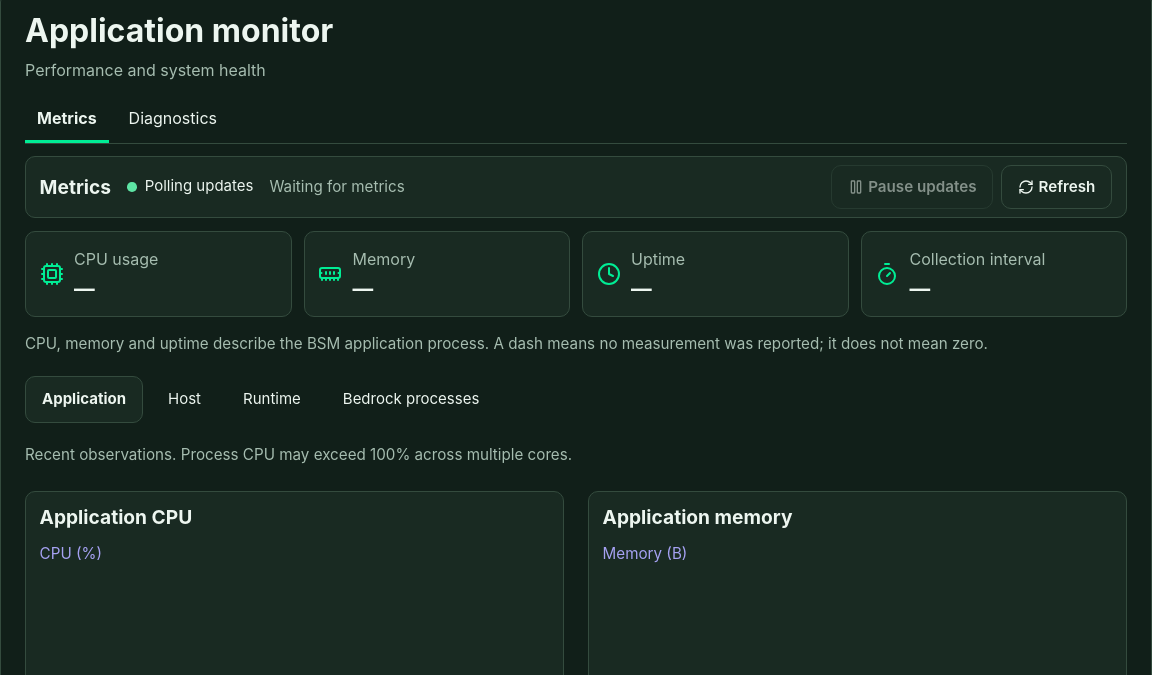
Test case: retains observations on fetch failures, pages history and inspects partial traces
The image size is (1152, 675).
Click the tab "Diagnostics" at (173, 120), box [117,97,229,143]
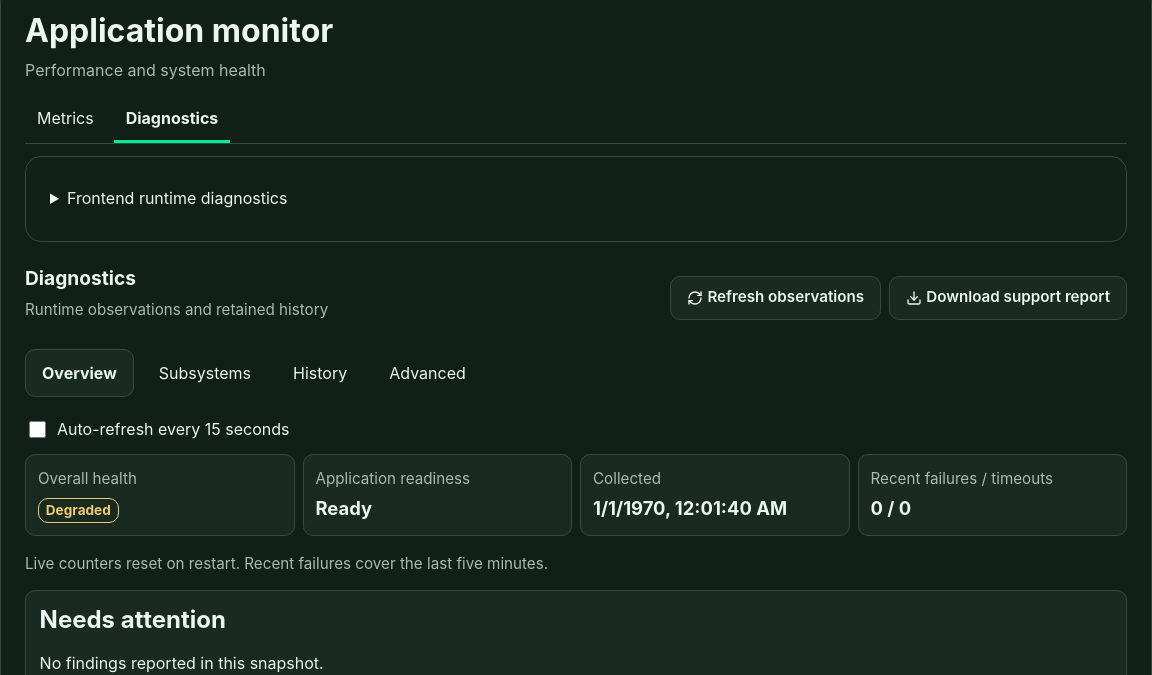
Result: the text "Ready" is shown at [316,497,372,519]
Click the button "History" at (320, 373), box [276,349,364,397]
(page scrolled)
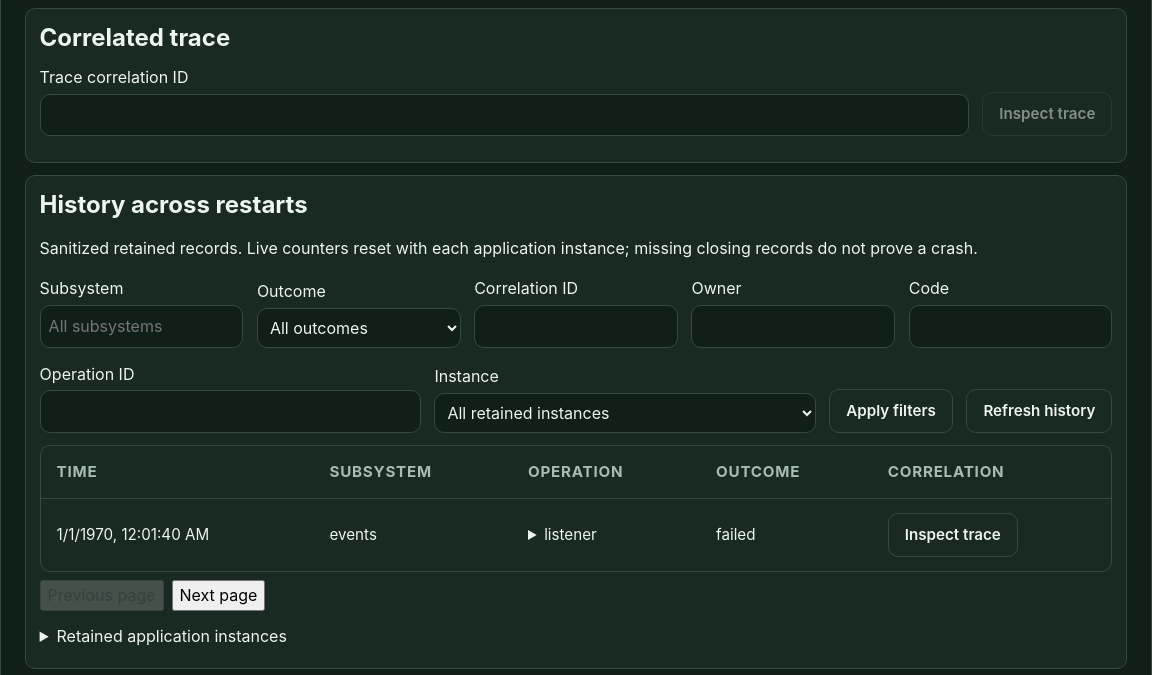
Result: the row "1/1/1970, 12:01:40 AM events listener failed Inspect trace" is shown at [41,498,1111,571]
Click the button "Inspect trace" in the row of "events" at (953, 535), box [888,513,1018,557]
(page scrolled)
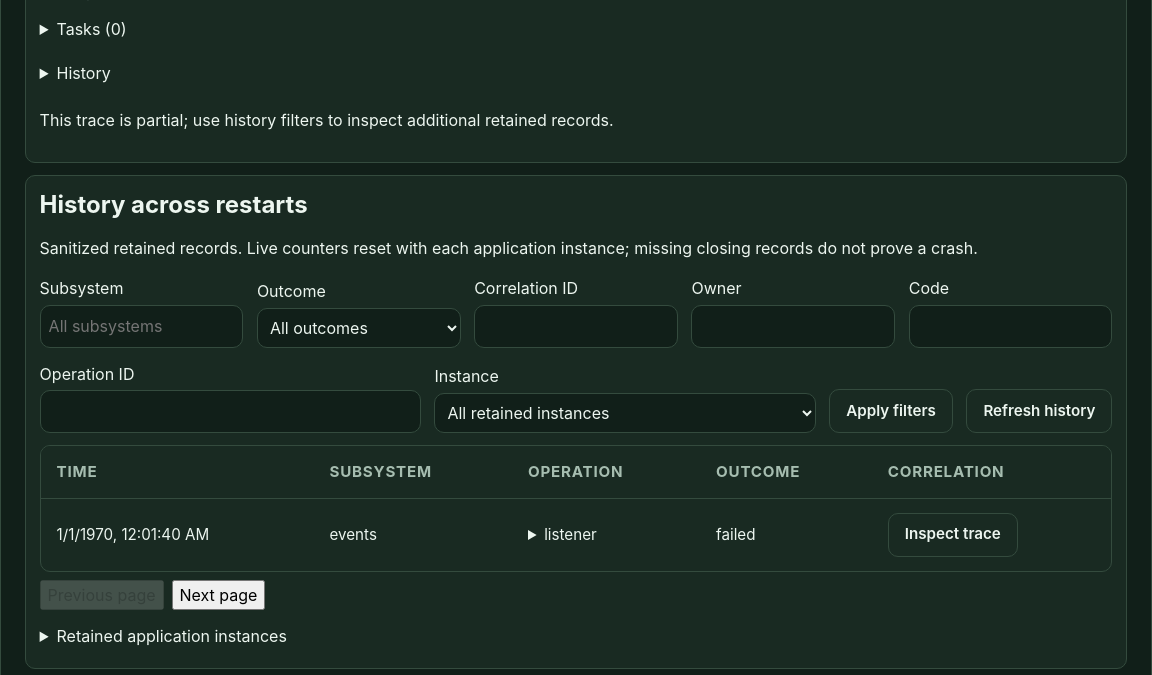
Click the button "Next page" at (218, 595), box [172,580,265,610]
(page scrolled)
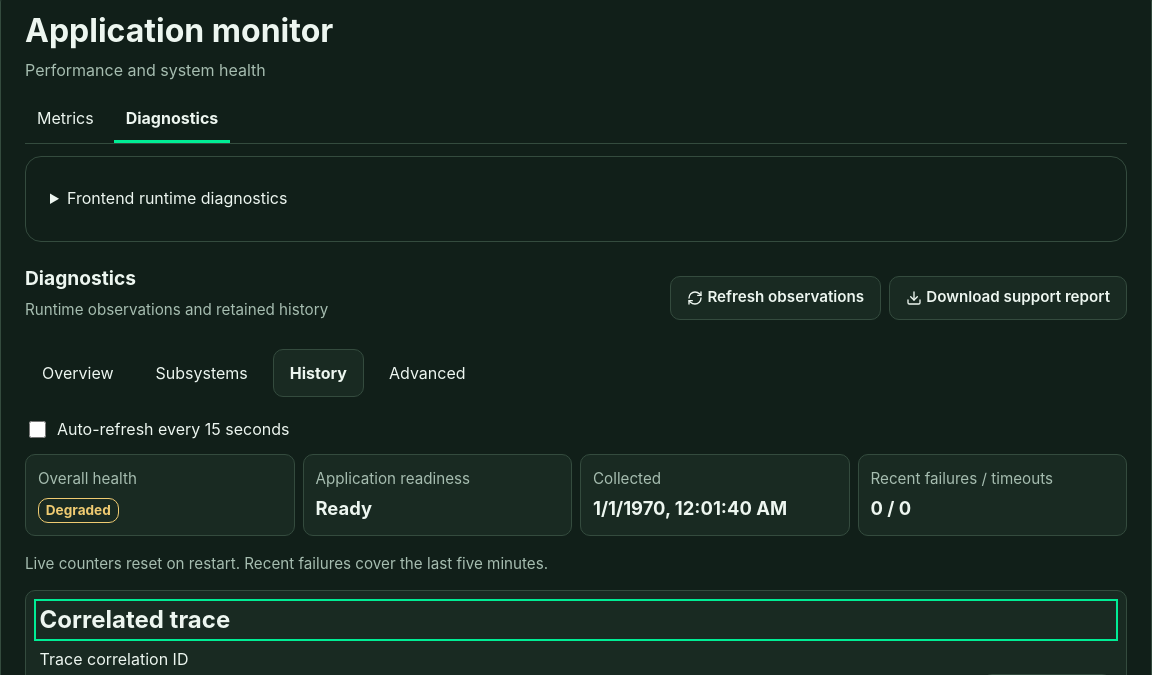
Click the button "Refresh observations" at (776, 298), box [670,276,881,320]
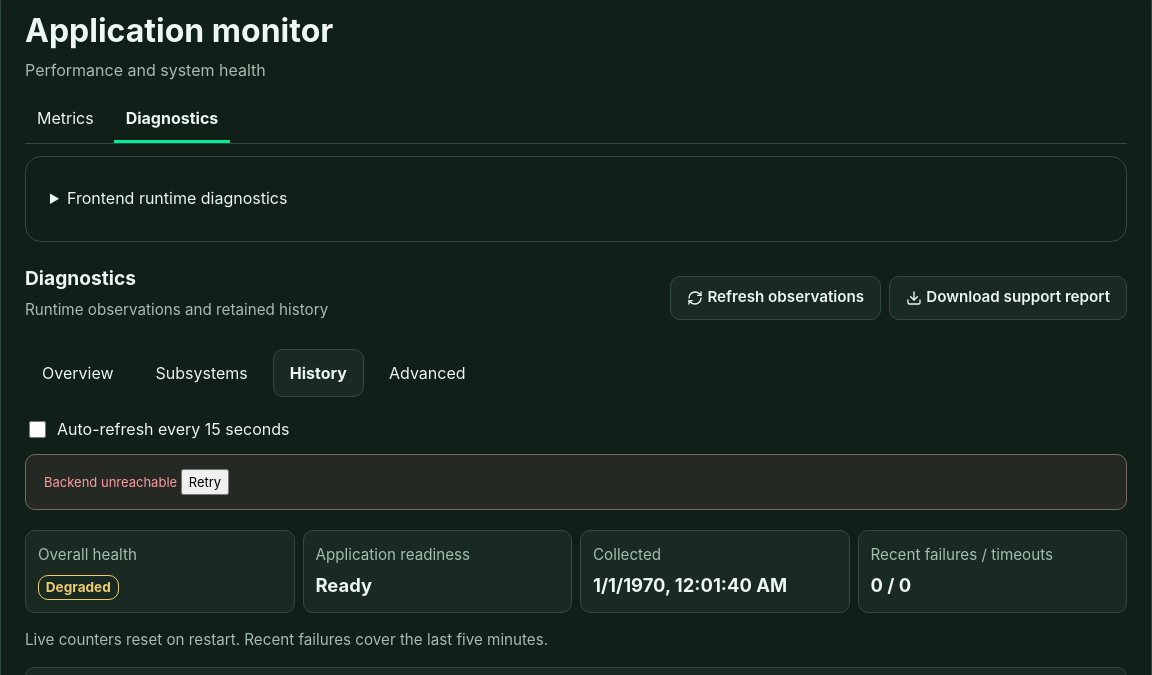
Result: the text "Ready" is shown at [316,574,372,596]
Result: the message "Backend unreachable Retry" is shown at [25,454,1127,510]
